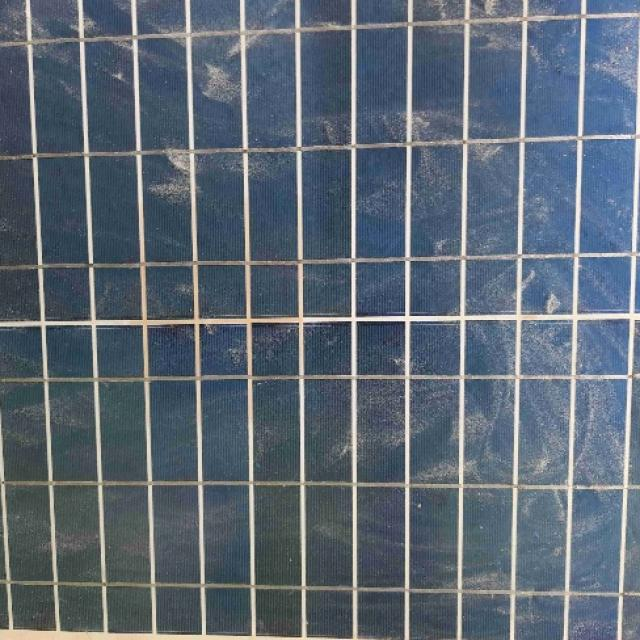Dirty: (0, 0, 640, 609)
